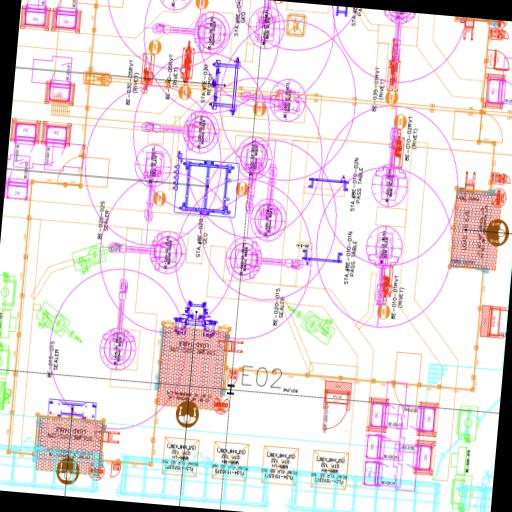robot: (95, 275, 144, 374), (225, 132, 278, 220), (150, 3, 234, 58), (104, 223, 188, 278), (140, 104, 224, 158), (222, 234, 304, 288), (358, 222, 406, 310), (368, 124, 416, 210), (238, 72, 308, 127)
